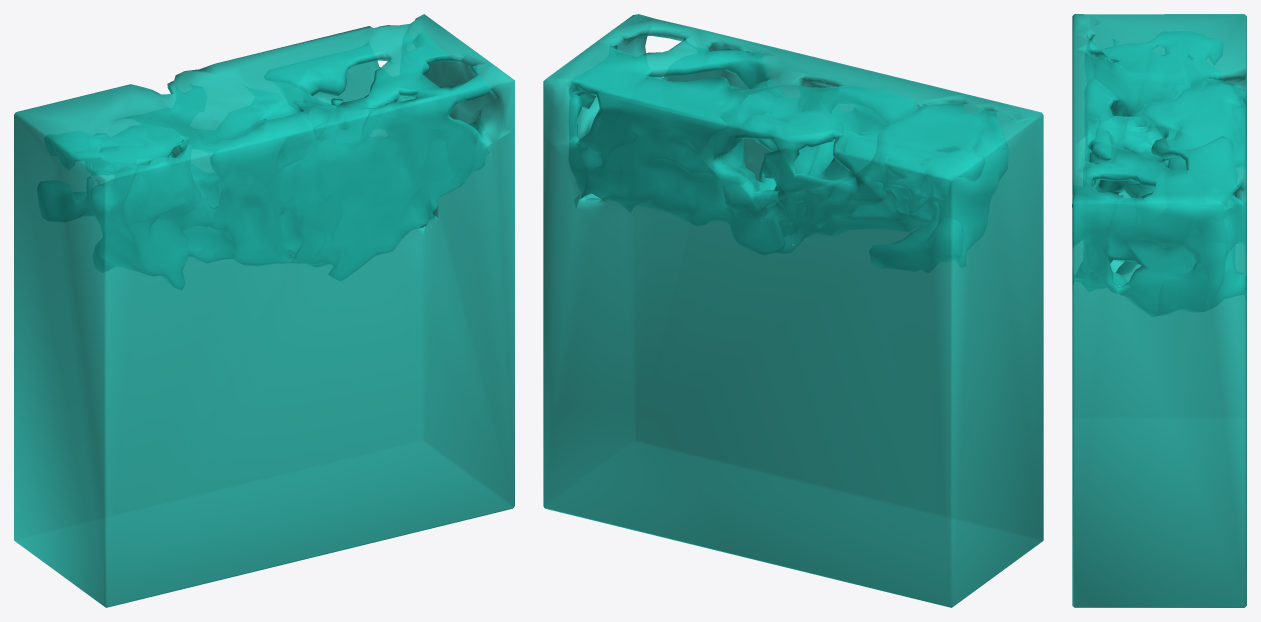
3 renders of one model, left to right at view 1: azimuth 30°, elevation 25°; view 2: azimuth 150°, elevation 25°; view 3: azimuth 270°, elevation 25°, orthographic. The views are drawn at different scales.
Parts seen in each view (by area): view 1: Liquid_Domain; view 2: Liquid_Domain; view 3: Liquid_Domain.
Boxes of the visible parts, <box> form: Liquid_Domain: <box>14,14,514,607</box>; Liquid_Domain: <box>543,14,1043,607</box>; Liquid_Domain: <box>1072,14,1246,607</box>.
Bounding box in the file's own units: 1965 × 1966 × 766.
